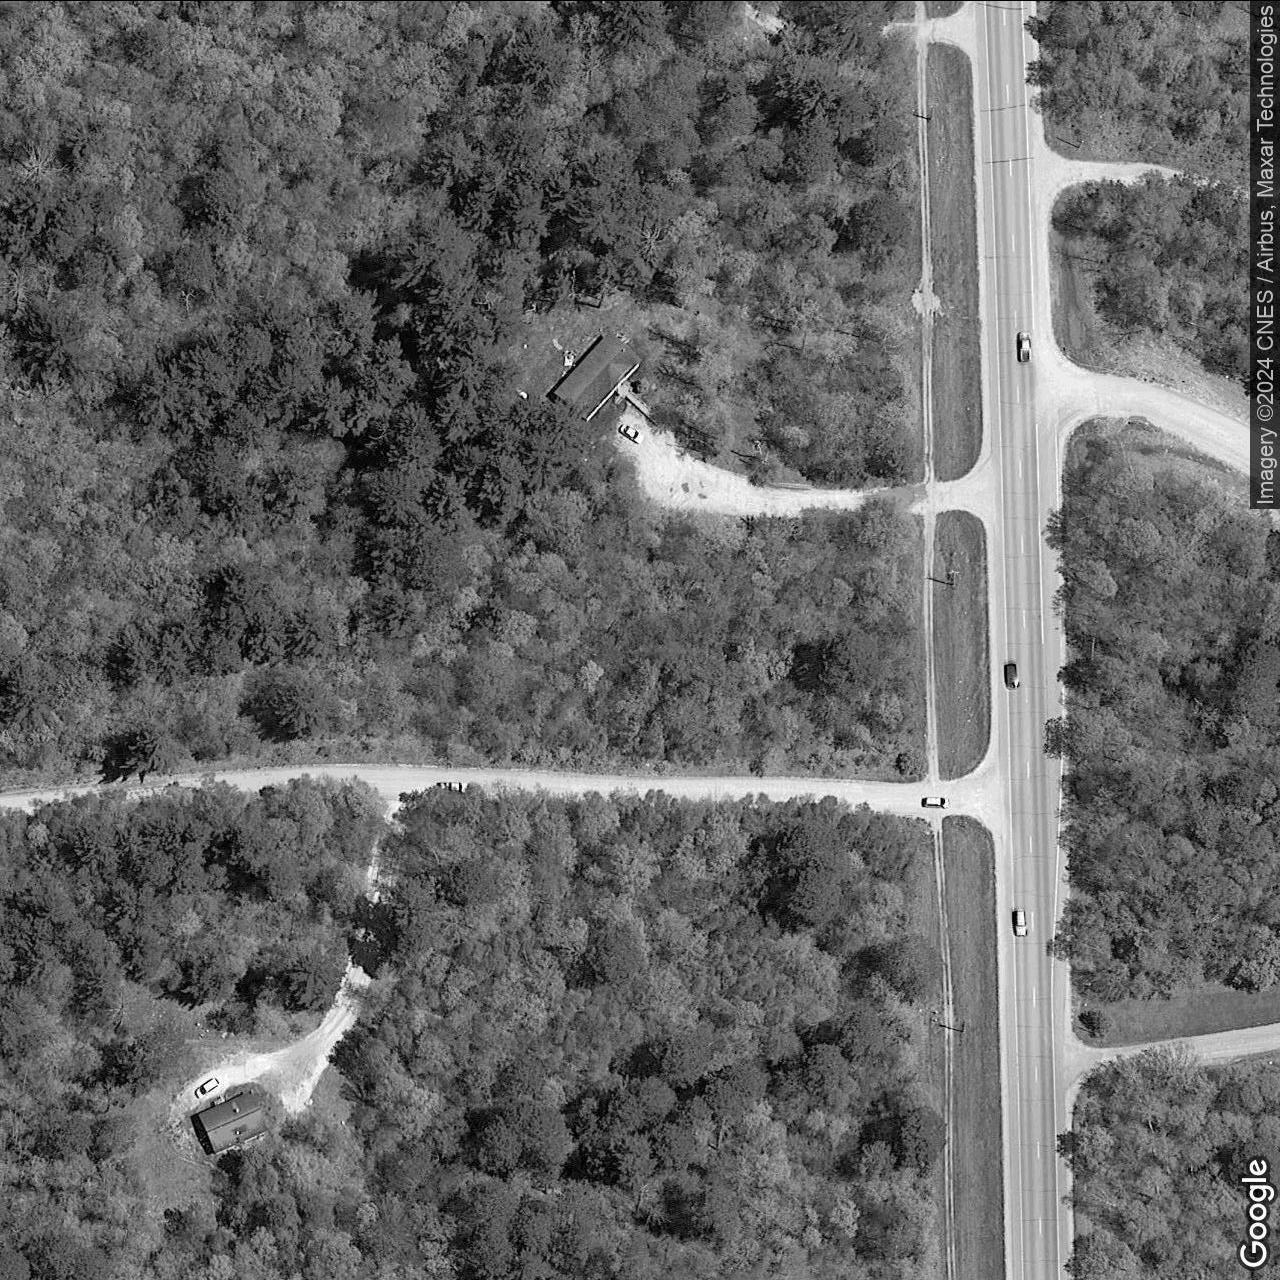House: (550, 331, 647, 422), (193, 1089, 271, 1155)
Propane: (512, 384, 533, 402)
